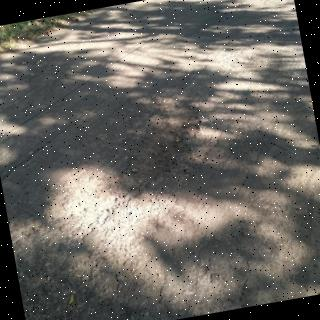pothole: (47, 99, 202, 237)
